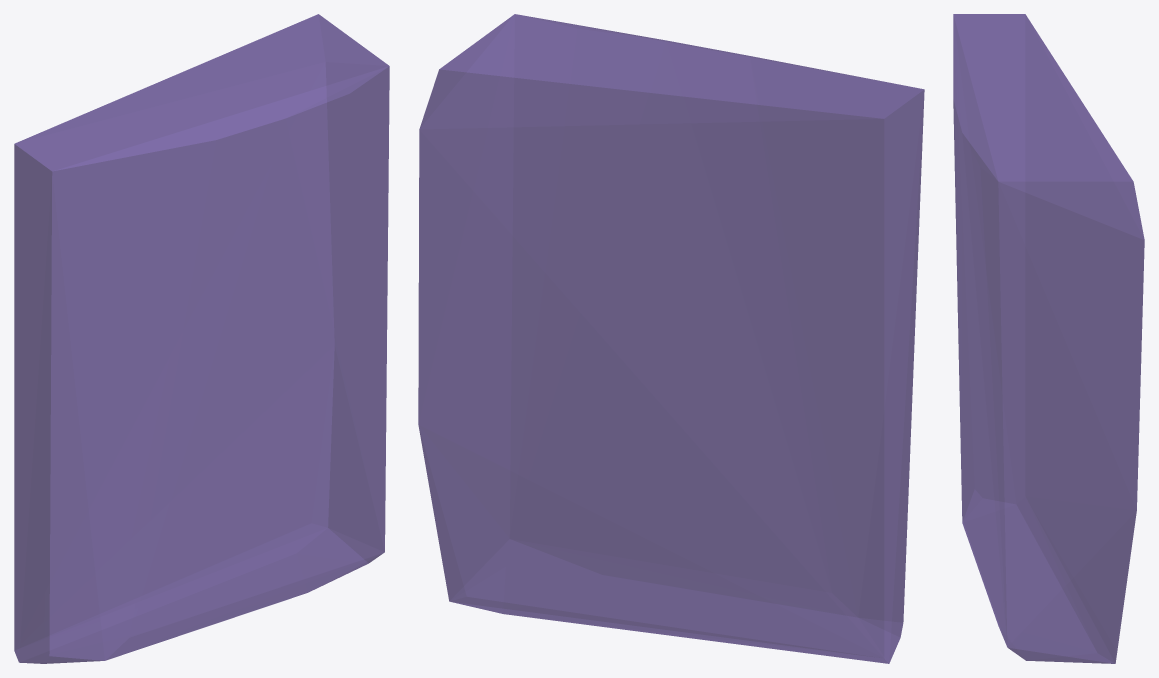
3 renders of one model, left to right at view 1: azimuth 30°, elevation 25°; view 2: azimuth 150°, elevation 25°; view 3: azimuth 270°, elevation 25°, orthographic. The views are drawn at different scales.
Visible parts, largest first — view 1: Shape_IndexedFaceSet.012_Shape_IndexedFaceSet.15994; view 2: Shape_IndexedFaceSet.012_Shape_IndexedFaceSet.15994; view 3: Shape_IndexedFaceSet.012_Shape_IndexedFaceSet.15994.
Boxes of the visible parts, x1,y1,x2,y2 form: Shape_IndexedFaceSet.012_Shape_IndexedFaceSet.15994: (14, 14, 389, 663); Shape_IndexedFaceSet.012_Shape_IndexedFaceSet.15994: (418, 14, 924, 663); Shape_IndexedFaceSet.012_Shape_IndexedFaceSet.15994: (953, 14, 1144, 663).
Bounding box in the file's own units: 0.1596 × 0.2074 × 0.0734.
